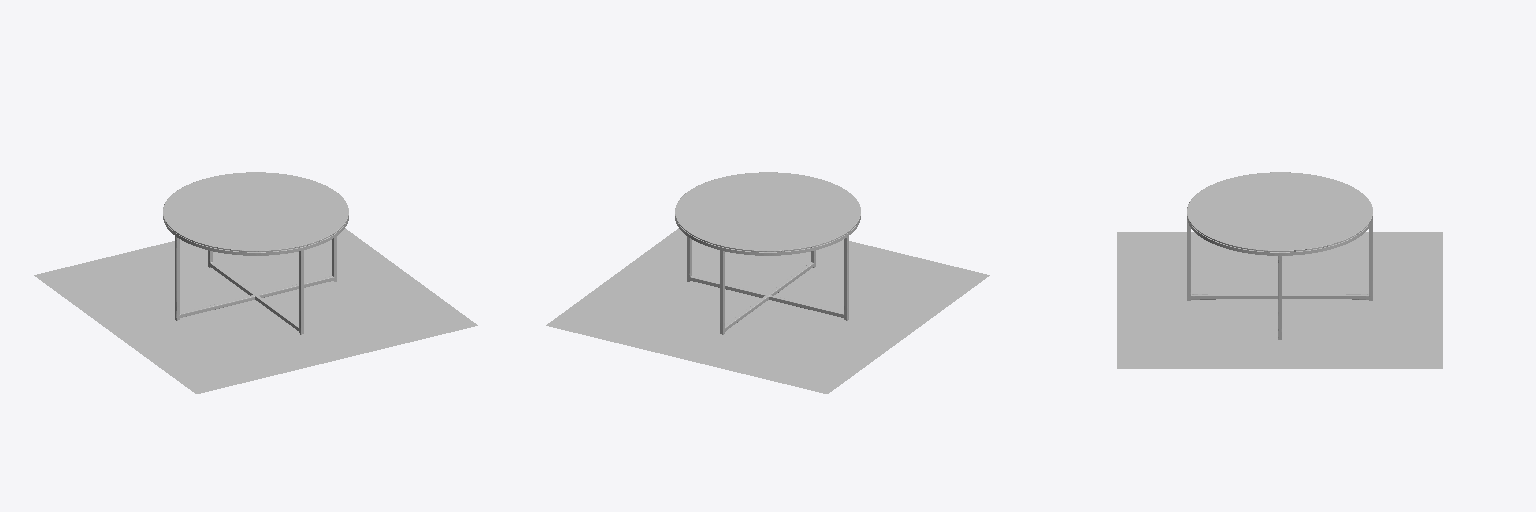
The model's file is MTNA5083.obj.
3 renders of one model, left to right at view 1: azimuth 30°, elevation 25°; view 2: azimuth 150°, elevation 25°; view 3: azimuth 270°, elevation 25°, orthographic.
Visible parts, largest first — view 1: shadow_plane_v6, clear_obj_1_1_96078_v6, not_clear_obj_1_v6; view 2: shadow_plane_v6, clear_obj_1_1_96078_v6, not_clear_obj_1_v6; view 3: shadow_plane_v6, clear_obj_1_1_96078_v6, not_clear_obj_1_v6.
Part boxes in pixels (bbox=[...]): shadow_plane_v6: bbox=[34, 228, 477, 393]; clear_obj_1_1_96078_v6: bbox=[163, 172, 348, 250]; not_clear_obj_1_v6: bbox=[163, 217, 348, 333]; shadow_plane_v6: bbox=[546, 228, 989, 393]; clear_obj_1_1_96078_v6: bbox=[675, 172, 860, 250]; not_clear_obj_1_v6: bbox=[675, 217, 860, 333]; shadow_plane_v6: bbox=[1117, 232, 1442, 368]; clear_obj_1_1_96078_v6: bbox=[1187, 172, 1372, 250]; not_clear_obj_1_v6: bbox=[1187, 217, 1372, 338].
Bounding box in the file's own units: 161 × 48.55 × 161.